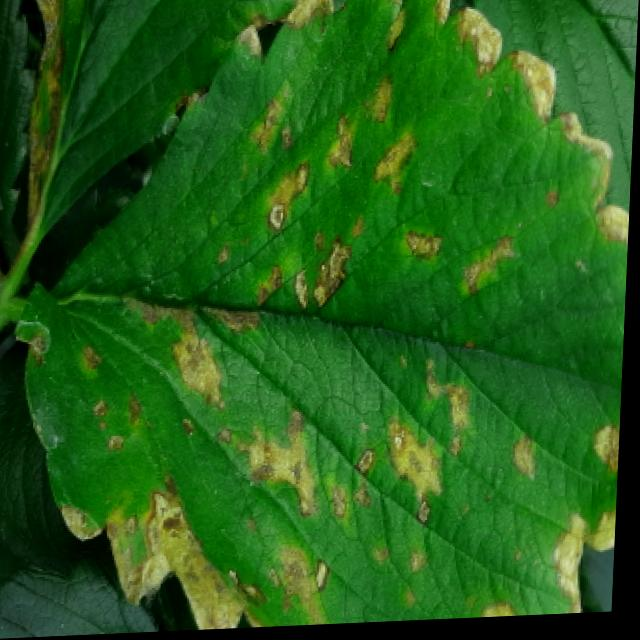Angular Leafspot: (14, 0, 632, 632), (19, 0, 302, 273)
